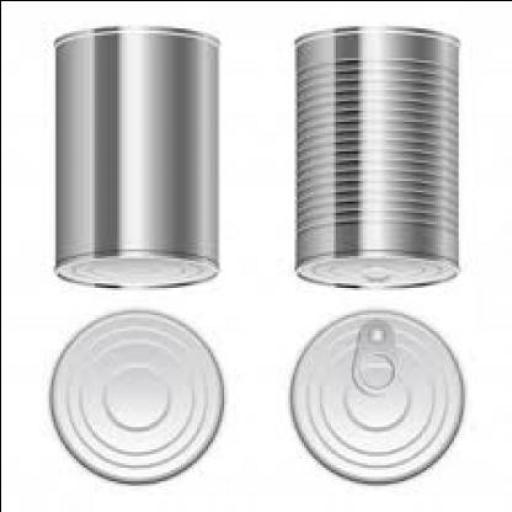metal: (296, 24, 460, 292), (55, 25, 221, 289), (50, 310, 226, 486), (292, 312, 466, 488)
